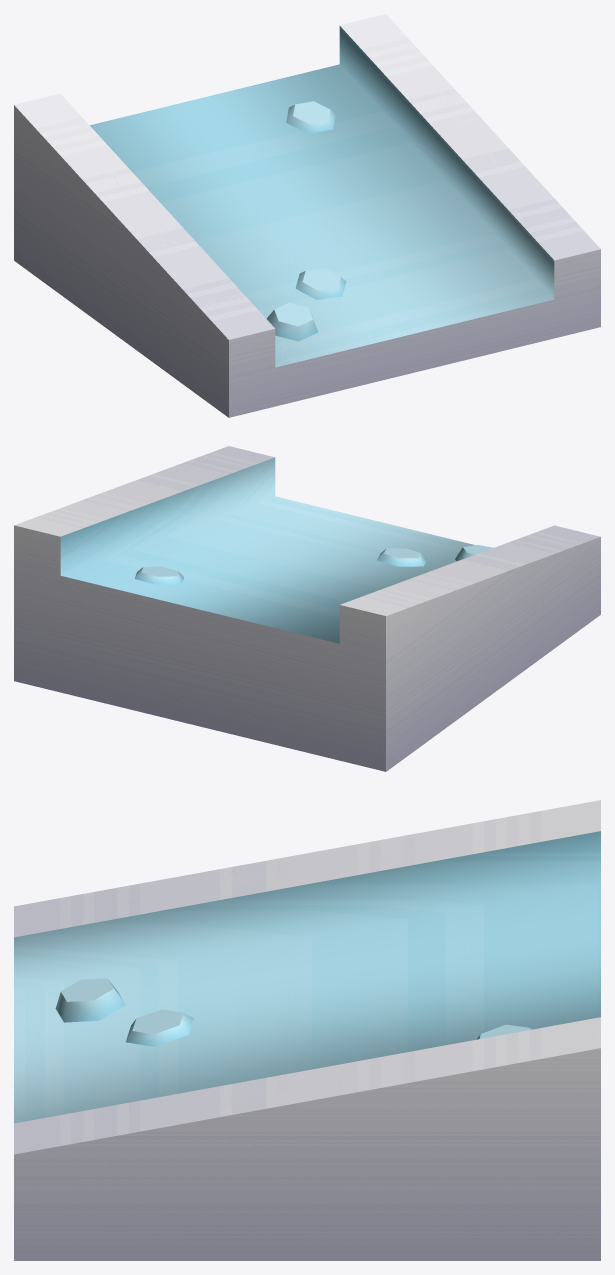
File: snow-tile-straight-slope.glb
3 views of the same model, one above another, from view 1: azimuth 30°, elevation 25°; view 2: azimuth 150°, elevation 25°; view 3: azimuth 270°, elevation 25° (orthographic). The views are drawn at different scales.
Parts seen in each view (by area): view 1: snow-tile-straight-slope; view 2: snow-tile-straight-slope; view 3: snow-tile-straight-slope.
Boxes of the visible parts, x1,y1,x2,y2 form: snow-tile-straight-slope: (14,14,600,417); snow-tile-straight-slope: (14,446,600,771); snow-tile-straight-slope: (14,800,600,1260).
Size of the model in its own units: 3 by 1.2 by 3.
1 material, 1 textured.
